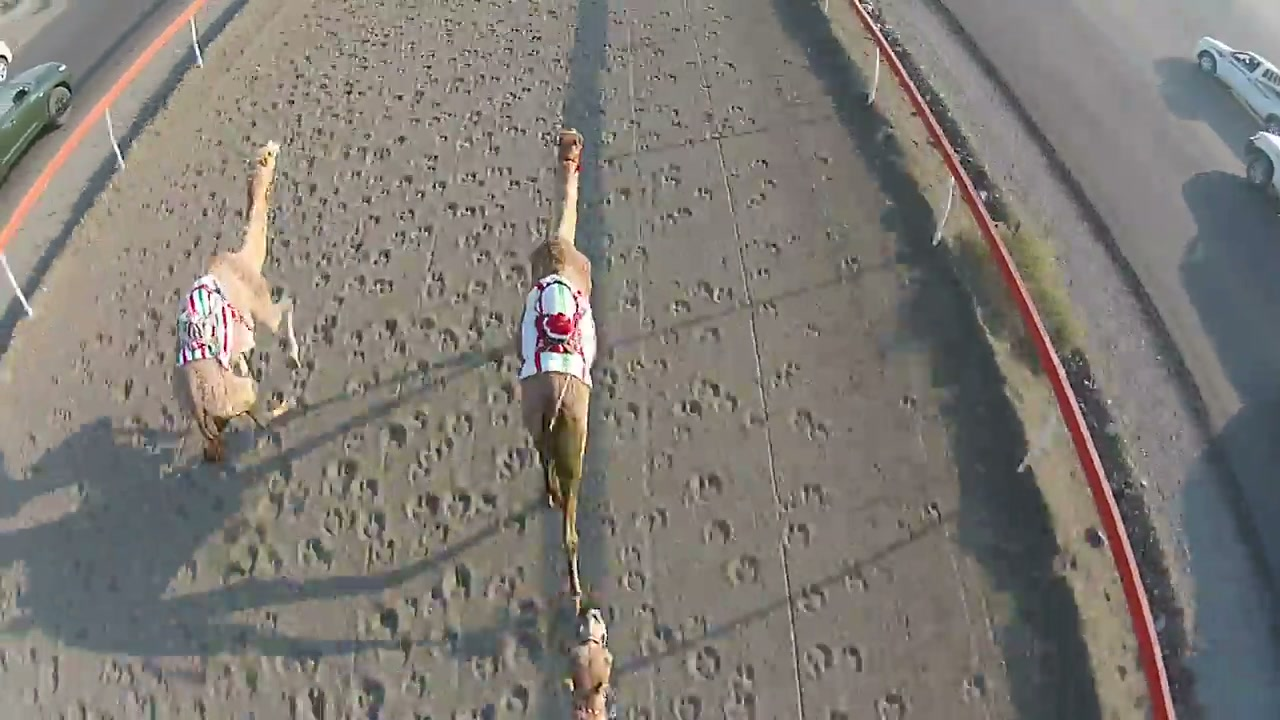animal_foot_print: (211, 24, 531, 719), (593, 175, 930, 719)
